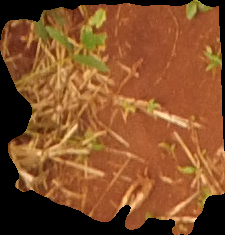soil: (3, 5, 224, 231)
